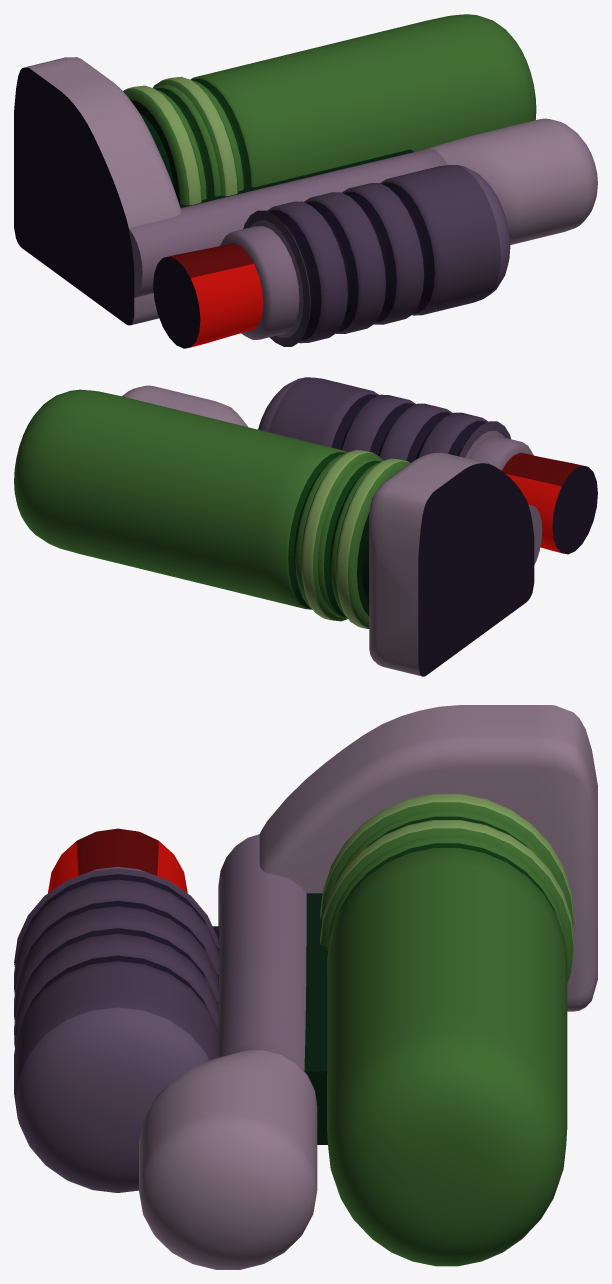
Rendered from tank_pod_right.glb.
3 views of the same model, one above another, from view 1: azimuth 30°, elevation 25°; view 2: azimuth 150°, elevation 25°; view 3: azimuth 270°, elevation 25° (orthographic). The views are drawn at different scales.
Parts seen in each view (by area): view 1: tank_r.001, coil_r.001, block.001, rail_r.001, core.001, web_tank_r.001; view 2: tank_r.001, block.001, coil_r.001, core.001, rail_r.001; view 3: tank_r.001, coil_r.001, rail_r.001, block.001, core.001, web_tank_r.001.
Part boxes in pixels (box(x1,y1,x2,y2)): tank_r.001: box(123, 14, 536, 205); coil_r.001: box(220, 165, 510, 346); block.001: box(14, 57, 181, 325); rail_r.001: box(128, 118, 597, 297); core.001: box(153, 243, 263, 348); web_tank_r.001: box(179, 149, 413, 207); tank_r.001: box(14, 389, 410, 628); block.001: box(369, 453, 534, 676); coil_r.001: box(258, 377, 533, 470); core.001: box(502, 452, 597, 554); rail_r.001: box(122, 385, 542, 564); tank_r.001: box(320, 793, 574, 1266); coil_r.001: box(14, 866, 219, 1192); rail_r.001: box(139, 834, 317, 1269); block.001: box(259, 705, 597, 1011); core.001: box(48, 828, 187, 892); web_tank_r.001: box(304, 893, 328, 1144).
Bounding box in the file's own units: 23.65 × 9.55 × 18.
